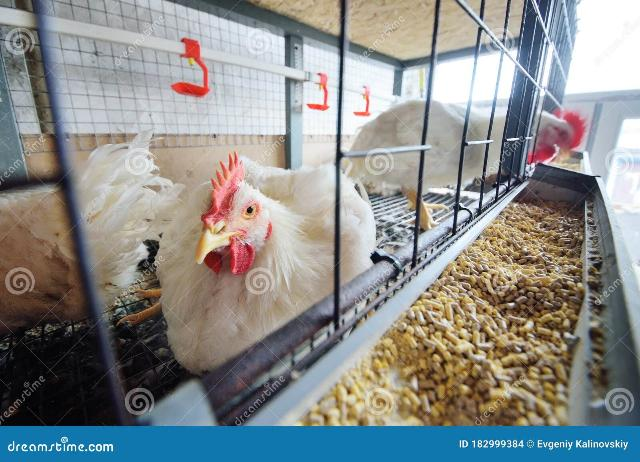Chicken: (155, 157, 378, 374), (344, 98, 586, 235), (0, 132, 166, 321)
